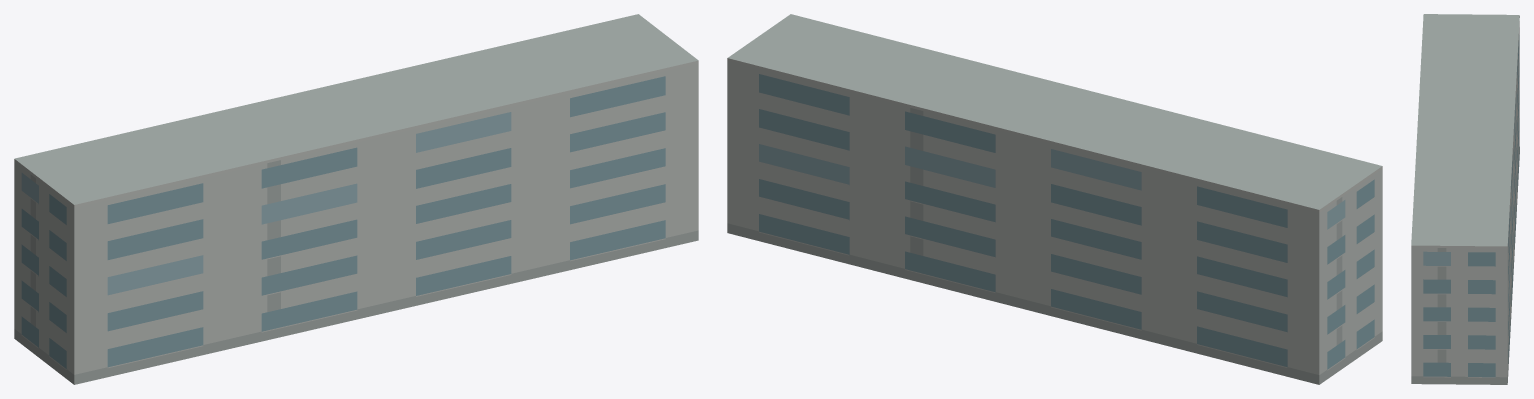
The model's file is residential-bf39df64-91ac-4517-8229-007e8bf0c78b.glb.
The picture shows the model from 3 angles, left to right: view 1: azimuth 30°, elevation 25°; view 2: azimuth 150°, elevation 25°; view 3: azimuth 270°, elevation 25°; orthographic projection. The views are drawn at different scales.
Visible parts, largest first — view 1: residential-bf39df64-91ac-4517-8229-007e8bf0c78b.tmp; view 2: residential-bf39df64-91ac-4517-8229-007e8bf0c78b.tmp; view 3: residential-bf39df64-91ac-4517-8229-007e8bf0c78b.tmp.
Boxes of the visible parts, x1=… form: residential-bf39df64-91ac-4517-8229-007e8bf0c78b.tmp: x1=14, y1=14, x2=698, y2=384; residential-bf39df64-91ac-4517-8229-007e8bf0c78b.tmp: x1=727, y1=14, x2=1382, y2=384; residential-bf39df64-91ac-4517-8229-007e8bf0c78b.tmp: x1=1411, y1=14, x2=1519, y2=384.
Bounding box in the file's own units: 54.91 × 15.25 × 10.85.
